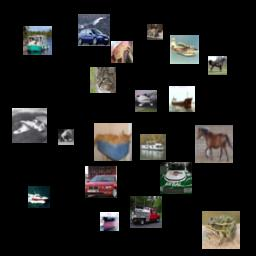airplane: (12, 108, 47, 143), (170, 35, 199, 64), (135, 90, 157, 112)
automobile: (160, 162, 192, 194), (78, 14, 110, 46), (85, 166, 117, 198)
cat: (94, 123, 132, 161), (90, 67, 116, 93), (111, 41, 133, 63), (147, 24, 163, 40)
dog: (58, 129, 74, 145)
frog: (202, 211, 240, 249)
ship: (23, 26, 52, 55), (169, 86, 195, 112), (140, 134, 166, 160), (28, 186, 50, 208), (100, 212, 119, 231)
truck: (130, 196, 162, 228)
